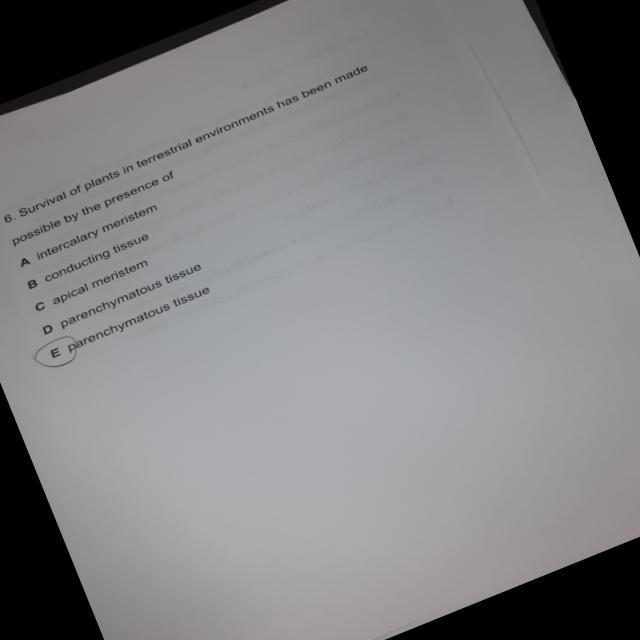E: (29, 330, 89, 379)
